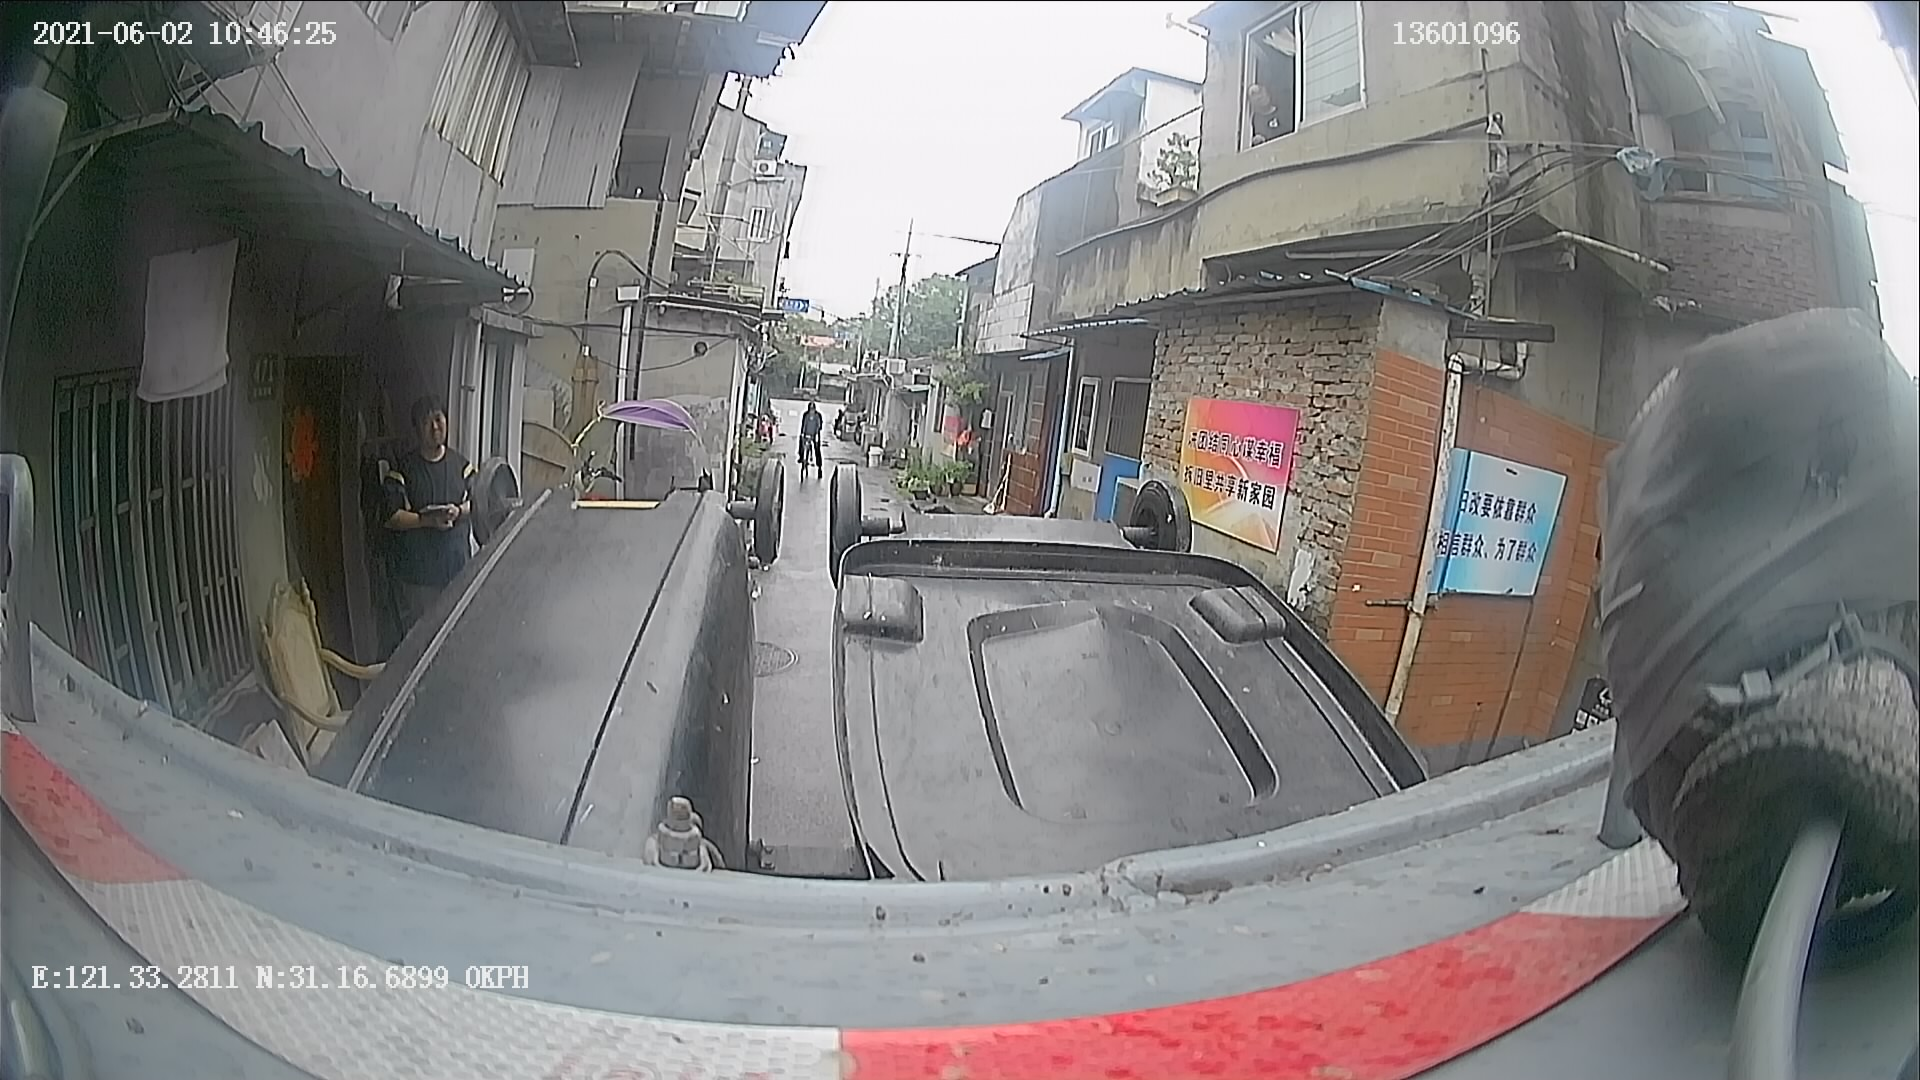Dry_garbage: (793, 459, 1269, 1031), (297, 440, 800, 952)
